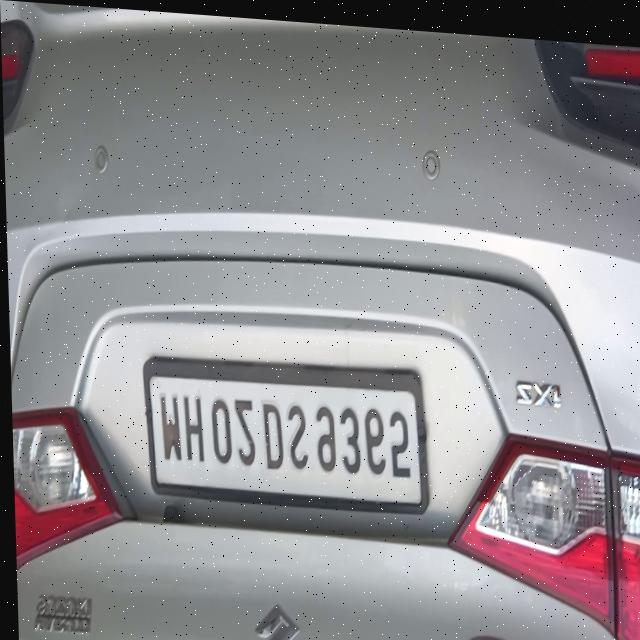plate: (140, 351, 426, 511)
